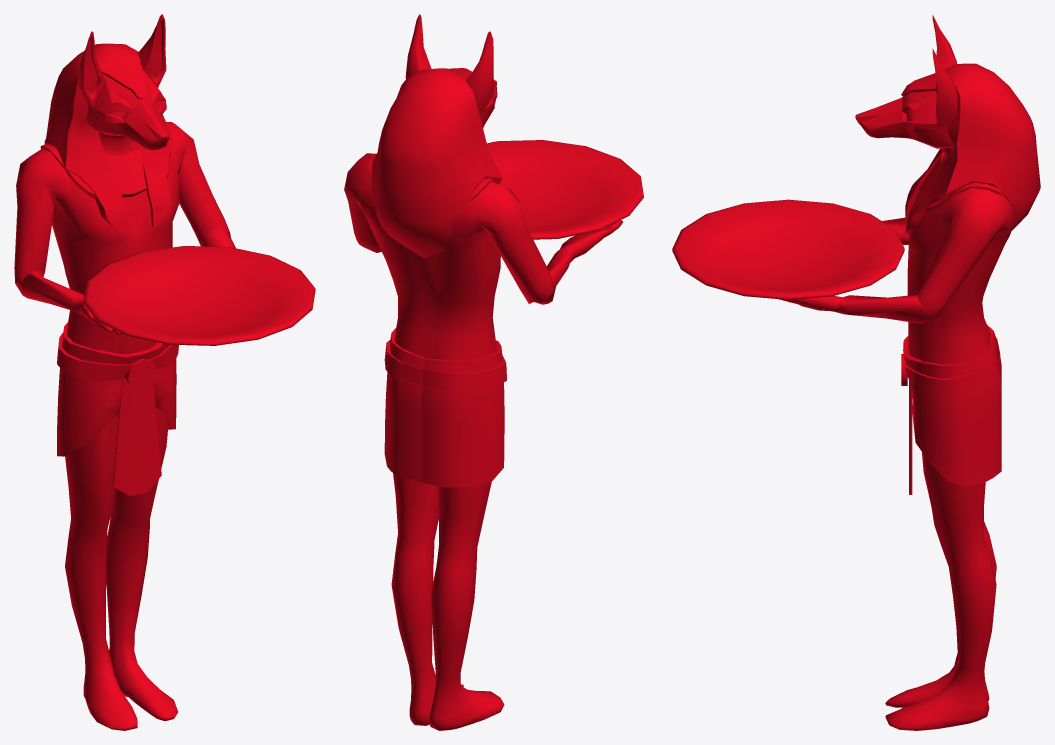
The model's file is anubis_static2.fbx.
The picture shows the model from 3 angles, left to right: view 1: azimuth 30°, elevation 25°; view 2: azimuth 150°, elevation 25°; view 3: azimuth 270°, elevation 25°; orthographic projection.
Visible parts, largest first — view 1: model_0; view 2: model_0; view 3: model_0.
Boxes of the visible parts, x1,y1,x2,y2 form: model_0: [14, 14, 315, 730]; model_0: [344, 14, 643, 730]; model_0: [672, 15, 1040, 730].
Bounding box in the file's own units: 57.72 × 184 × 89.9.
